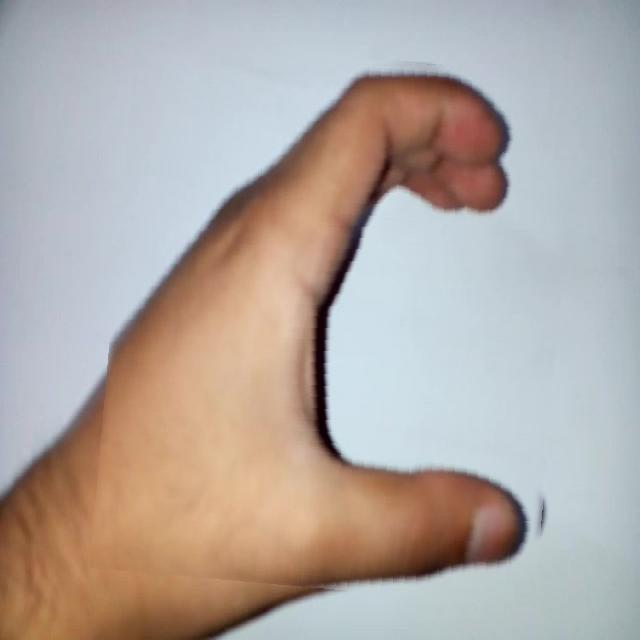C: (101, 48, 569, 597)
